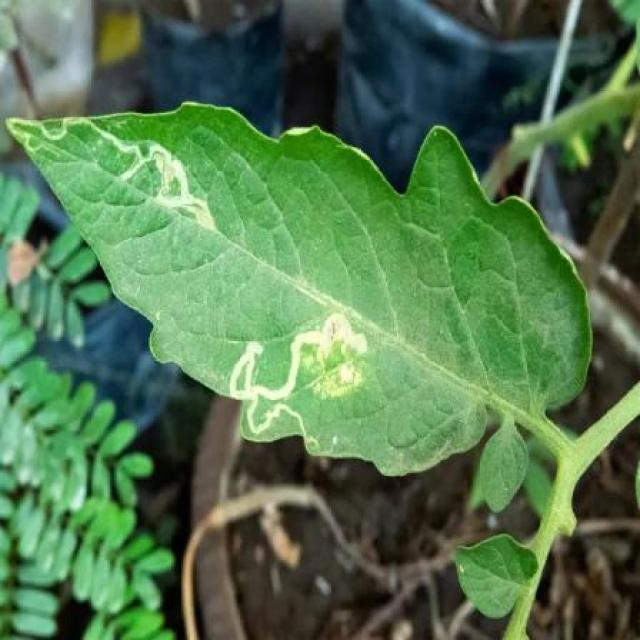Leaf Miner: (3, 94, 596, 477)
